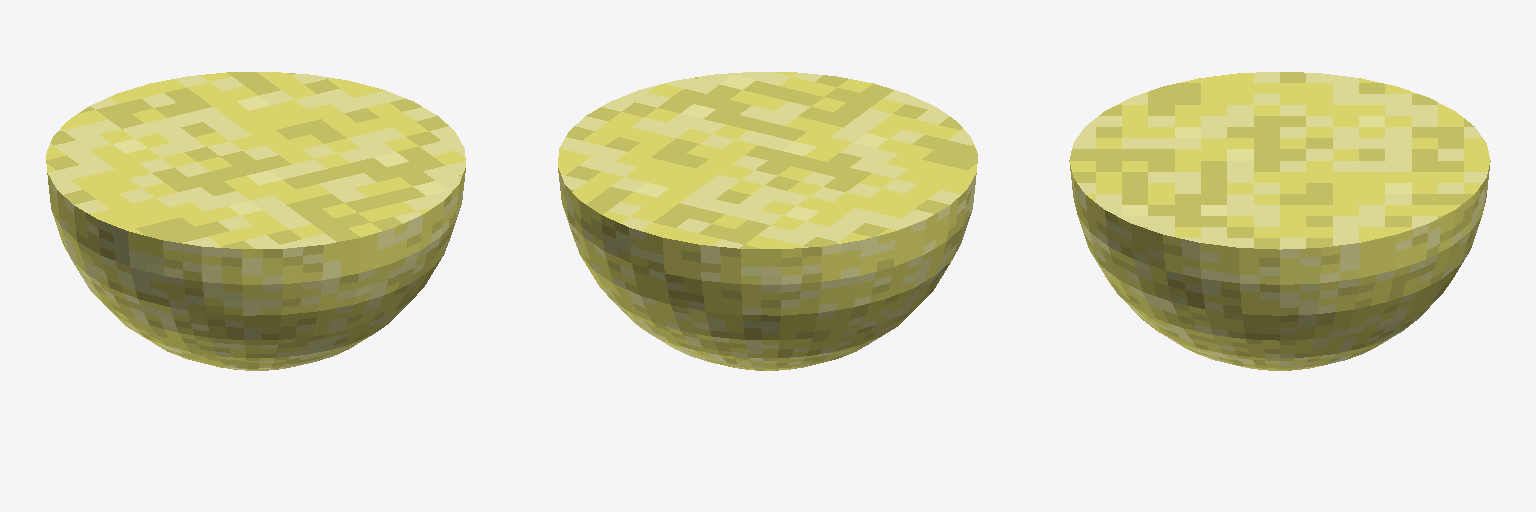
3 views of the same model, side by side, from view 1: azimuth 30°, elevation 25°; view 2: azimuth 150°, elevation 25°; view 3: azimuth 270°, elevation 25° (orthographic).
Parts seen in each view (by area): view 1: 球; view 2: 球; view 3: 球.
Part boxes in pixels (left/top/right/bottom): 球: left=46, top=72, right=465, bottom=370; 球: left=558, top=72, right=977, bottom=370; 球: left=1069, top=72, right=1490, bottom=370.
Bounding box in the file's own units: 2 × 1 × 2.
Materials: 1 (1 with a texture image).